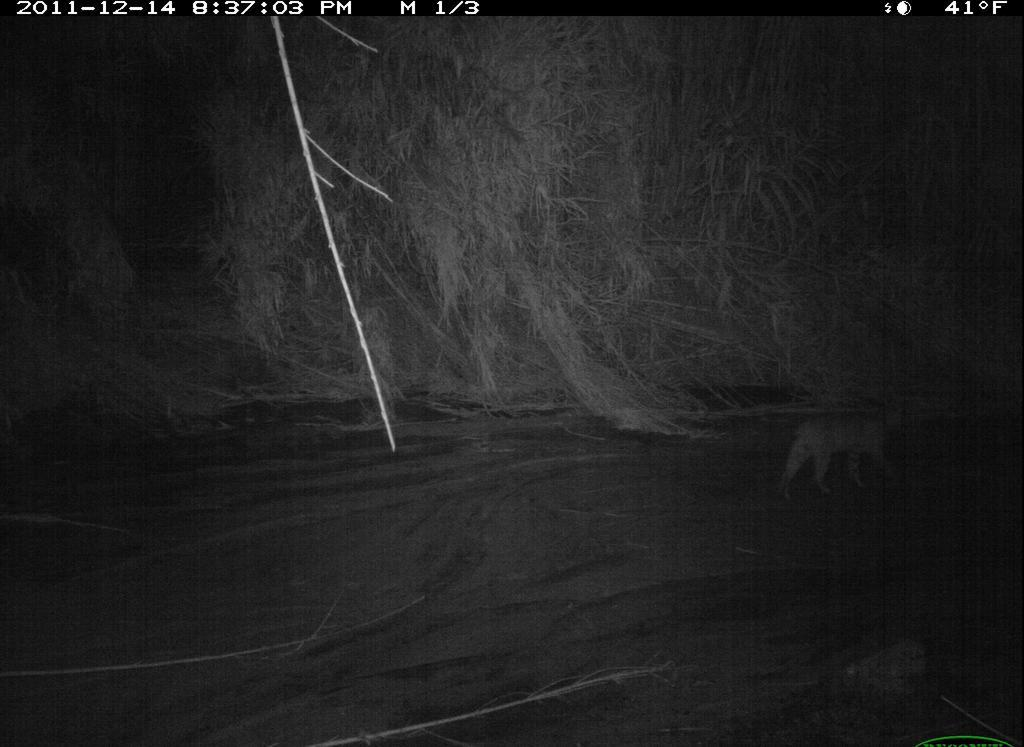bobcat: (771, 400, 911, 508)
